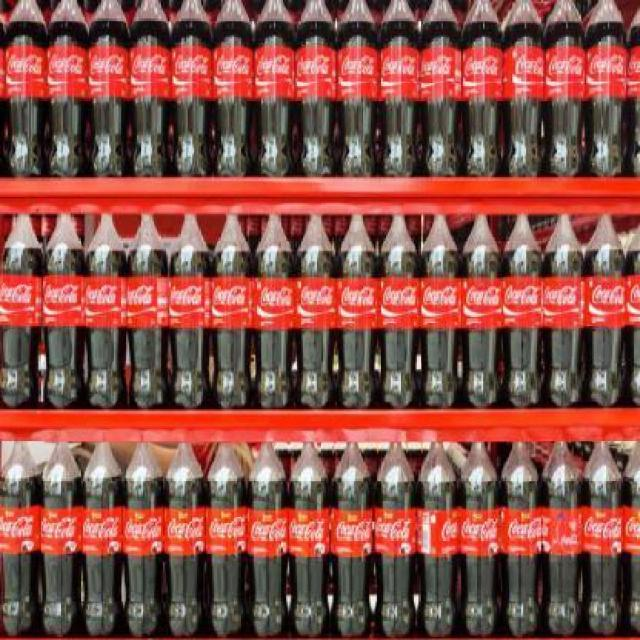Drinks: (39, 420, 82, 640), (373, 425, 417, 639), (330, 427, 374, 638), (123, 423, 166, 637), (165, 425, 208, 639), (82, 422, 124, 638), (248, 428, 290, 639), (289, 429, 331, 640), (254, 203, 297, 409), (212, 203, 255, 409), (207, 429, 249, 638), (169, 205, 212, 409), (461, 201, 503, 409), (378, 202, 420, 410), (417, 429, 459, 637), (85, 208, 128, 410), (502, 203, 544, 409), (337, 203, 379, 409), (0, 214, 44, 409), (544, 203, 586, 407), (585, 204, 627, 408), (128, 207, 170, 410), (458, 434, 500, 637), (582, 433, 624, 636), (499, 437, 541, 639), (541, 436, 583, 638), (421, 202, 461, 410), (297, 204, 337, 410), (44, 213, 86, 409), (0, 438, 40, 640), (501, 0, 546, 178), (586, 0, 629, 178), (171, 0, 214, 178), (544, 0, 587, 177), (5, 0, 48, 177), (461, 0, 503, 177), (419, 0, 461, 177), (378, 1, 420, 178), (336, 0, 378, 177), (295, 0, 337, 177), (129, 0, 171, 177), (88, 1, 130, 178), (254, 0, 294, 177), (213, 1, 253, 178), (49, 0, 89, 177)
